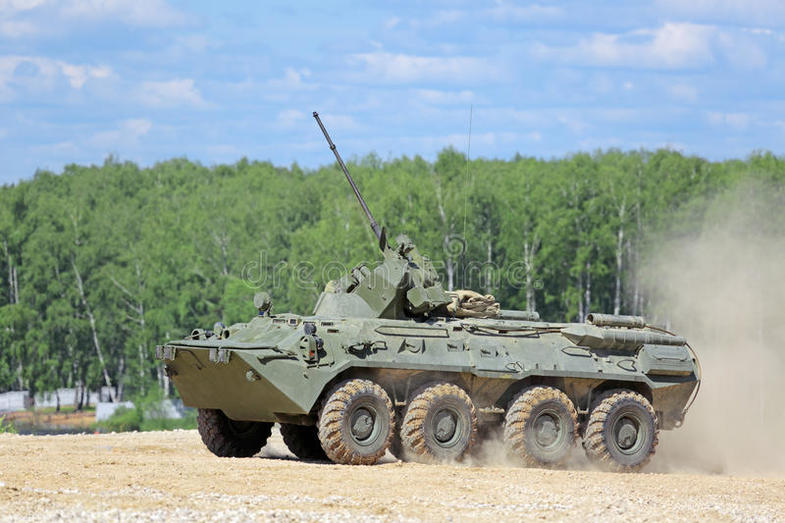btr: (160, 262, 700, 470)
